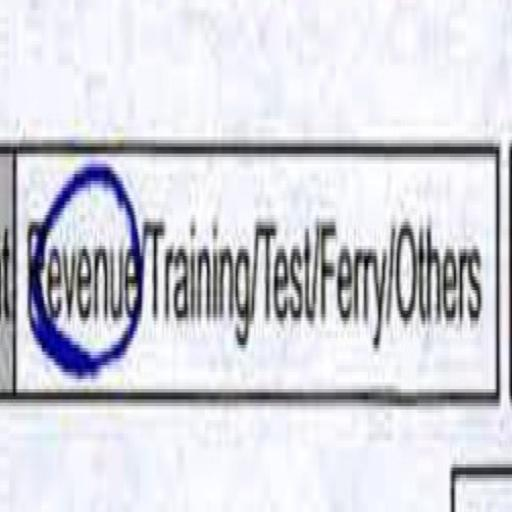check: (18, 119, 142, 479)
